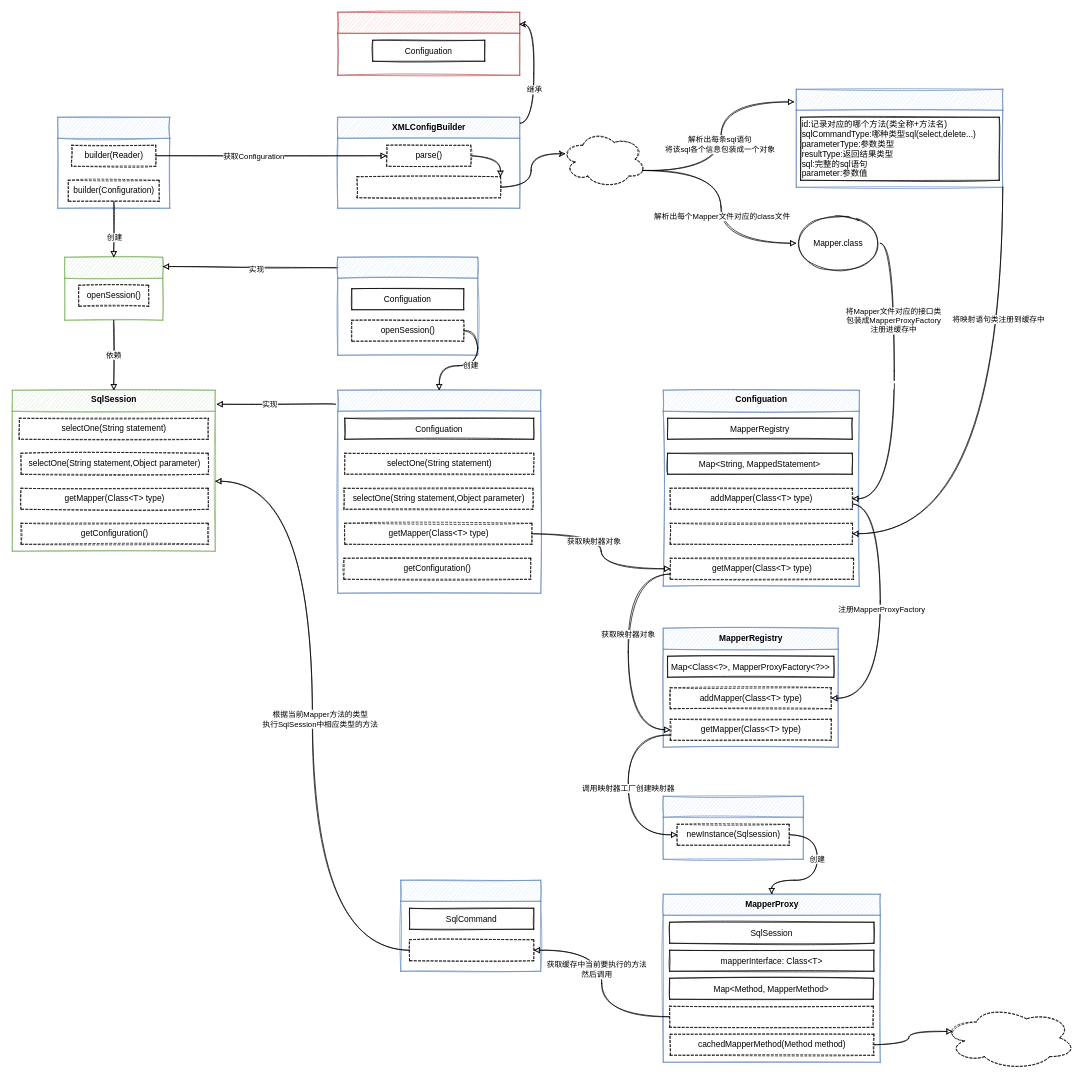
Some shapes in this 1089 by 1082 pixel diagram are drawn without their labels. Here are the shapes that lost their labels. From the top down, the box of each, then its label:
(337, 12, 520, 75): BaseBuilder
(796, 89, 1003, 187): MappedStatement
(57, 117, 170, 208): SqlSessionFactoryBuilder
(561, 131, 646, 187): 解析xml文件
(356, 176, 500, 198): mapperElement(Element Mappers)
(64, 257, 163, 320): SqlSessionFactory
(337, 257, 478, 355): DefaultSqlSessionFactory
(337, 390, 541, 593): DefaultSqlSession
(670, 523, 852, 544): addMappedStatement(MappedStatement ms)
(663, 796, 803, 859): MapperProxyFactory
(400, 880, 541, 971): MapperMethod
(409, 939, 534, 961): execute(SqlSession,Object[])
(669, 1006, 873, 1027): invoke(Object proxy, Method method, Object[] args)
(943, 1006, 1076, 1069): 将Mapper接口中 要执行的方法进行包装 后缓存
